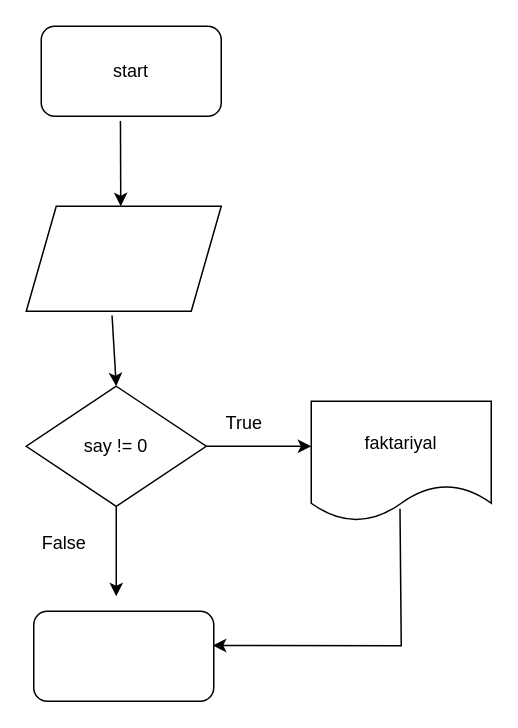
This 518x728 diagram has some shape labels left out. The shapes that lost their labels are listed below. From the top down, each one's centre as x and y in pixels, then its label:
point (123, 258): say , faktariyal
point (123, 655): end
